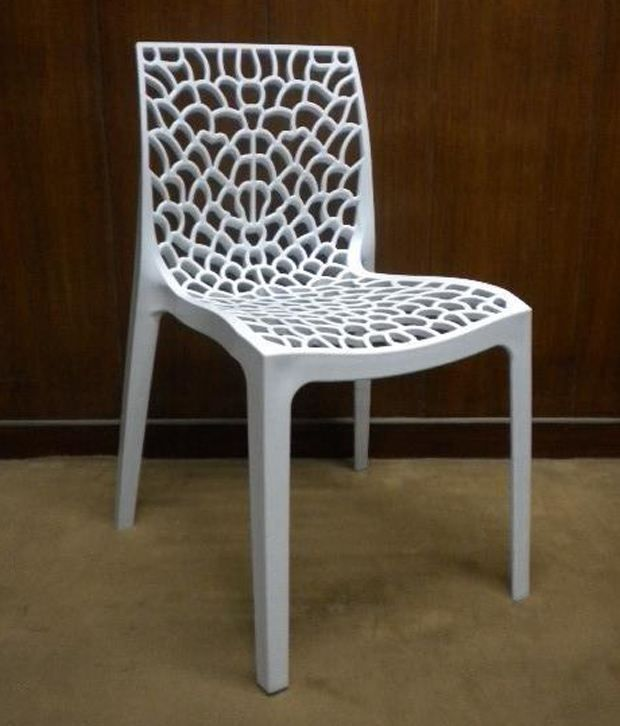chair: (96, 28, 552, 706)
